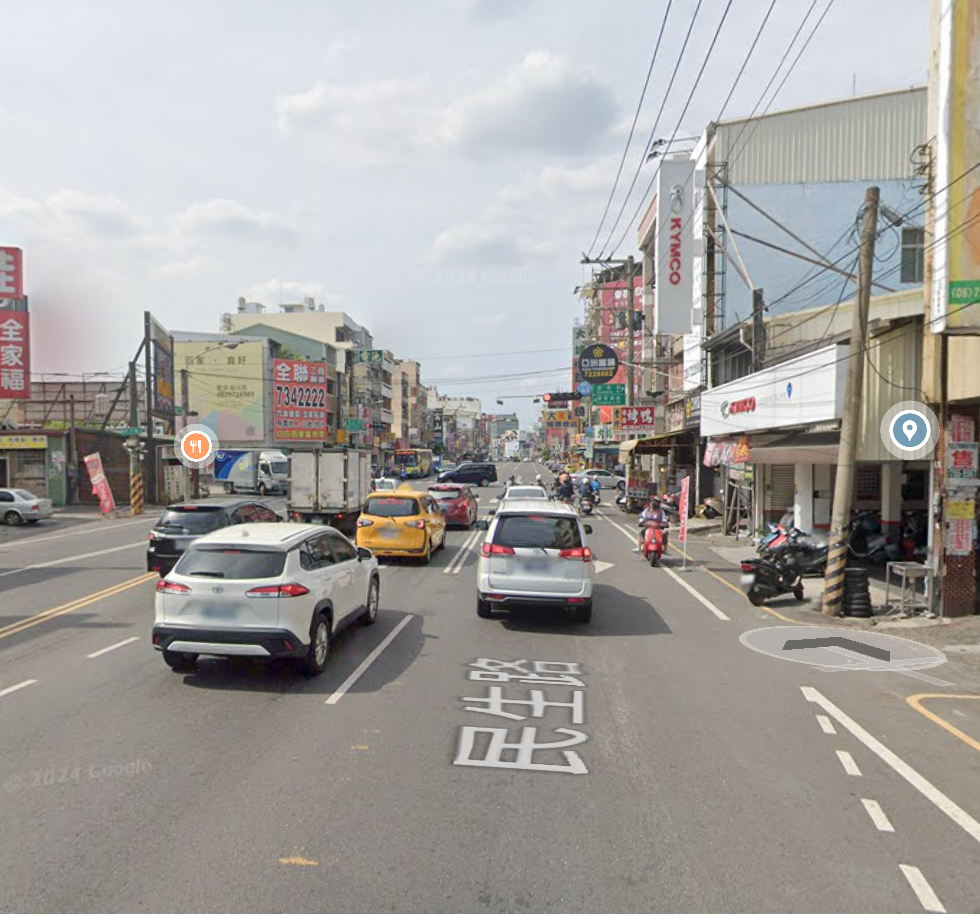red: (540, 390, 586, 404), (362, 421, 384, 430)
